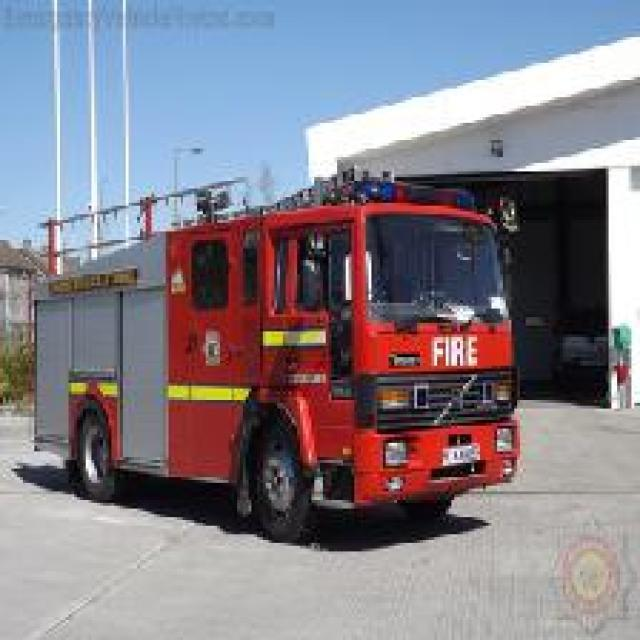emergency: (26, 163, 526, 543)
